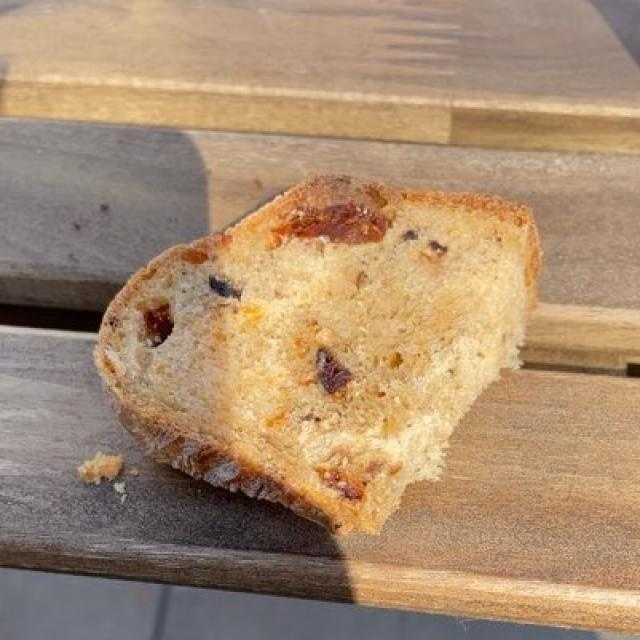bread: (98, 182, 532, 530)
